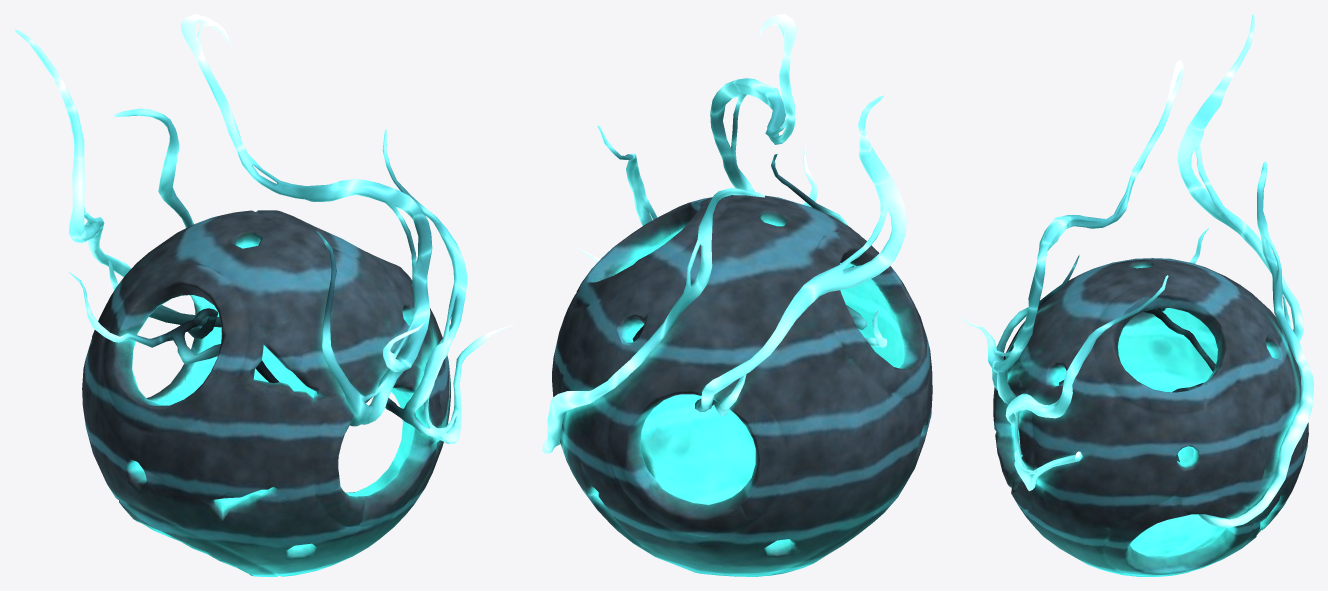
Rendered from caos_drs_chaospot_01b_soma_v36.glb.
3 renders of one model, left to right at view 1: azimuth 30°, elevation 25°; view 2: azimuth 150°, elevation 25°; view 3: azimuth 270°, elevation 25°, orthographic. The views are drawn at different scales.
Visible parts, largest first — view 1: caos_drs_chaospot_01b; view 2: caos_drs_chaospot_01b; view 3: caos_drs_chaospot_01b.
Boxes of the visible parts, x1,y1,x2,y2 form: caos_drs_chaospot_01b: (14,14,513,576); caos_drs_chaospot_01b: (542,14,932,576); caos_drs_chaospot_01b: (961,14,1313,576).
Bounding box in the file's own units: 2.53 × 3.33 × 2.24.
2 materials, 2 textured.
